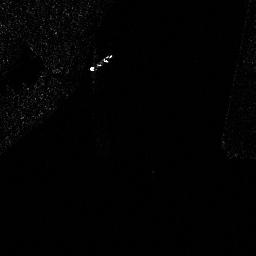ship: (89, 54, 115, 71)
